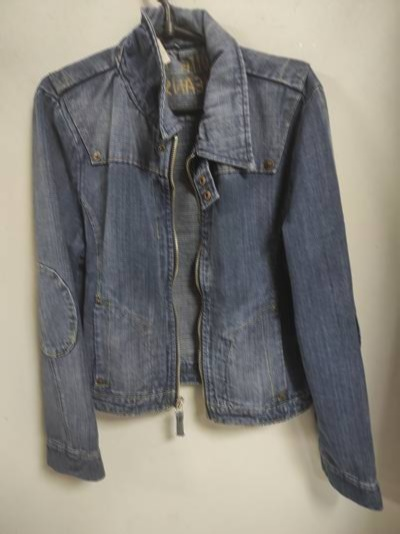Blazer: (6, 30, 376, 493)
